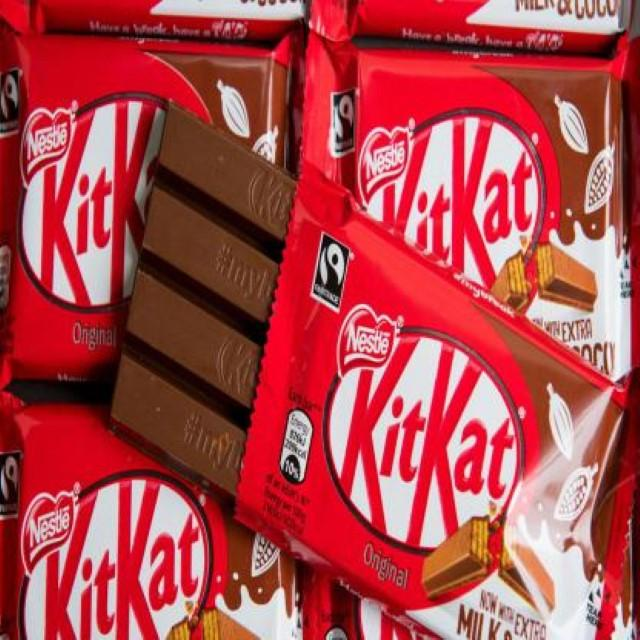kitkat_chocolate: (240, 182, 640, 640), (306, 20, 640, 385), (8, 25, 282, 412), (6, 393, 298, 640)
